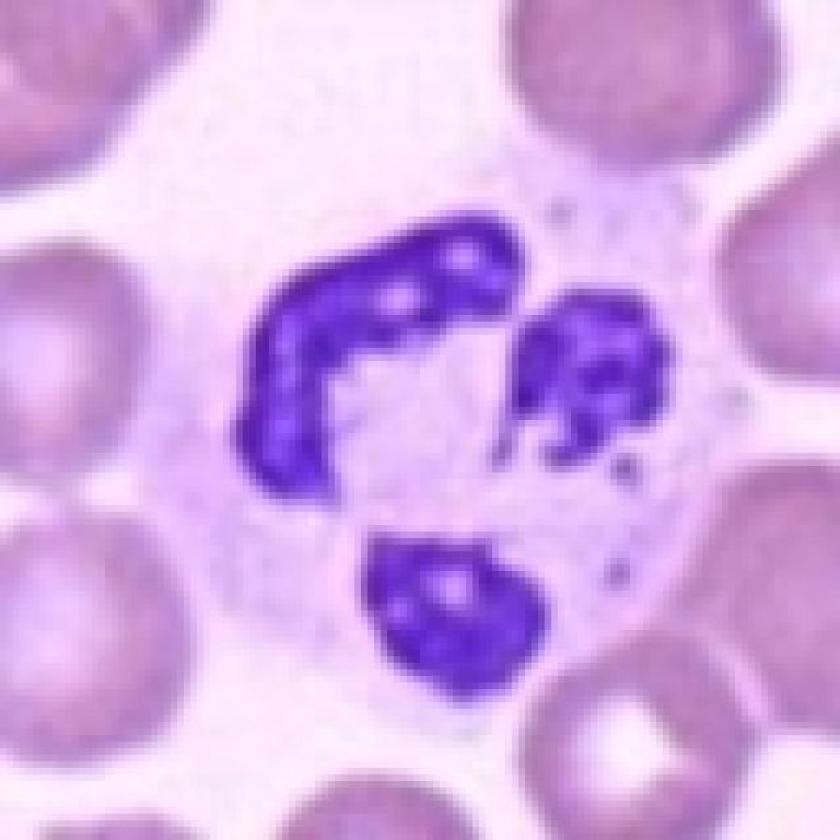neutrophil: (73, 156, 715, 725)
